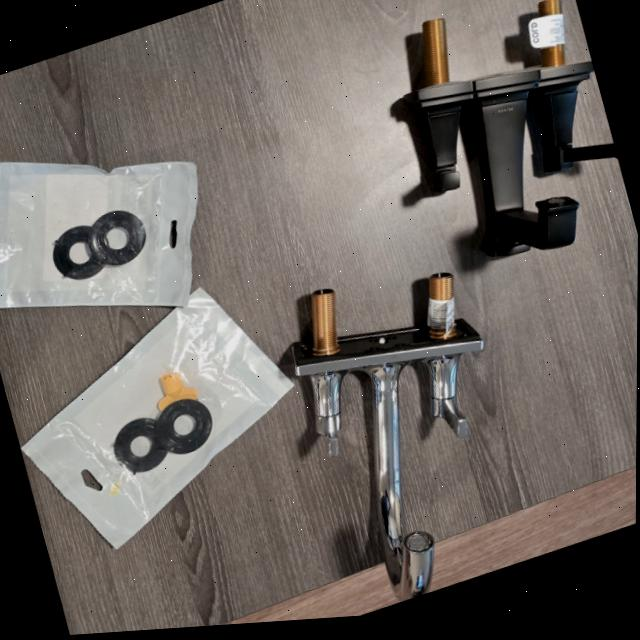10: (293, 272, 483, 601)
12o: (22, 288, 292, 548)
13: (0, 162, 197, 307)
9: (415, 0, 617, 256)
